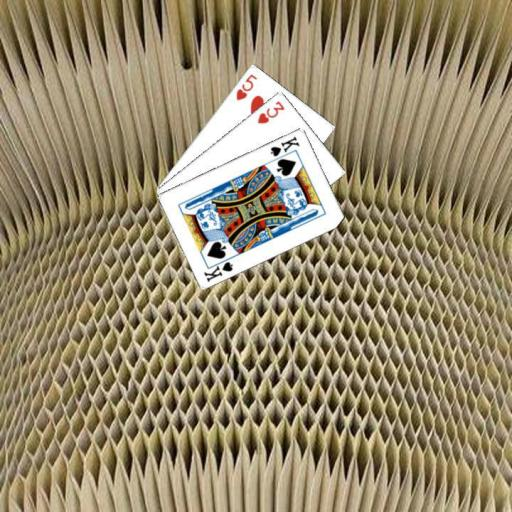3H: (254, 98, 286, 125)
5H: (232, 70, 259, 102)
KS: (201, 253, 235, 283), (267, 133, 301, 158)
